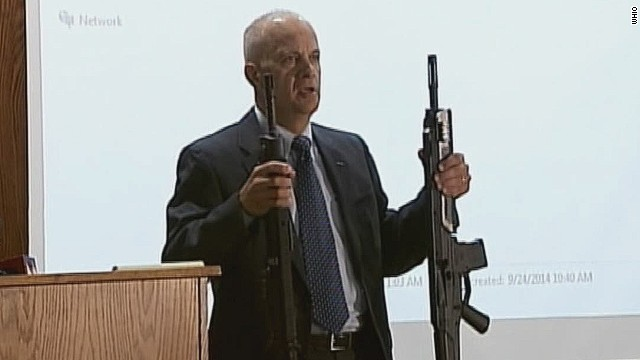Rifle: (414, 51, 492, 360), (248, 69, 317, 360)
